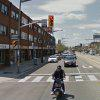Motorcycle: (48, 63, 72, 100)
